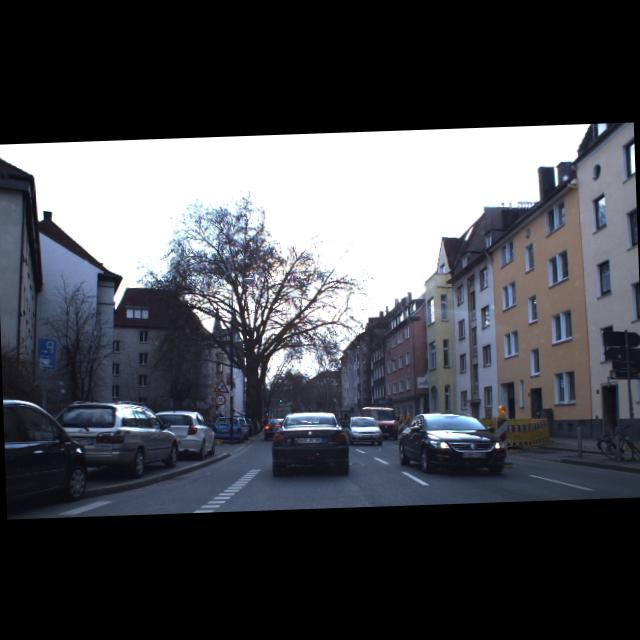danger: (212, 378, 228, 393)
prohibitory: (215, 393, 226, 404)
